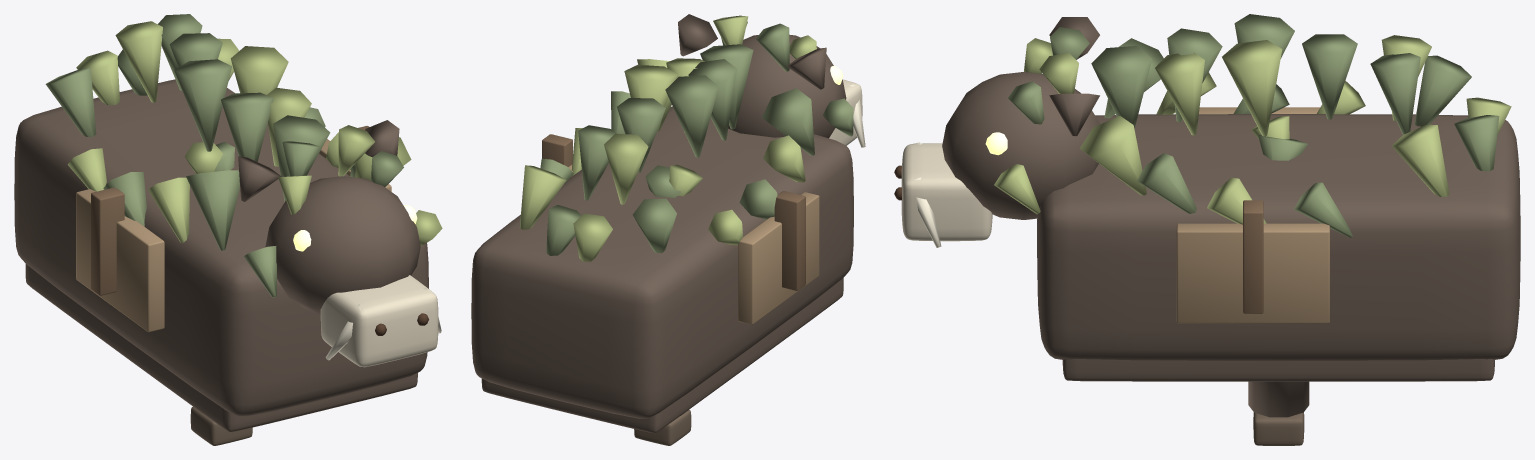
The model's file is bramble_charger_v1.glb.
3 renders of one model, left to right at view 1: azimuth 30°, elevation 25°; view 2: azimuth 150°, elevation 25°; view 3: azimuth 270°, elevation 25°, orthographic. The views are drawn at different scales.
Parts seen in each view (by area): view 1: Body_Barrel, Body, Head_Mesh, Snout, Plank_Armor_L, Body_Belly, Plank_detail_strap_L, Body_ruffle_leaf_21, Ear_L_detail, BL_Hoof, Body_ruffle_leaf_24, Body_ruffle_leaf_20 (+7 smaller); view 2: Body_Barrel, Body, Plank_Armor_L, Body_Belly, Head_Mesh, Plank_detail_strap_L, Ear_R_detail, Body_ruffle_leaf_20, Ear_L_detail, BL_Hoof, Body_ruffle_leaf_24, Plank_detail_strap_R (+5 smaller); view 3: Body_Barrel, Body, Plank_Armor_R, Head_Mesh, Body_Belly, Snout, Plank_detail_strap_R, BL_Leg, BL_Hoof, Ear_R_detail, Body_ruffle_leaf_25, Body_ruffle_leaf_21 (+5 smaller).
Part boxes in pixels (<box>): Body_Barrel: <box>14,79,428,416</box>; Body: <box>45,14,411,250</box>; Head_Mesh: <box>265,176,420,314</box>; Snout: <box>320,275,438,367</box>; Plank_Armor_L: <box>76,189,164,332</box>; Body_Belly: <box>25,264,417,431</box>; Plank_detail_strap_L: <box>91,187,124,295</box>; Body_ruffle_leaf_21: <box>338,125,374,176</box>; Ear_L_detail: <box>238,156,281,201</box>; BL_Hoof: <box>190,407,252,445</box>; Body_ruffle_leaf_24: <box>244,246,276,297</box>; Body_ruffle_leaf_20: <box>282,141,320,176</box>; Body_Barrel: <box>471,106,853,418</box>; Body: <box>519,44,814,261</box>; Plank_Armor_L: <box>738,192,819,324</box>; Body_Belly: <box>481,278,843,433</box>; Head_Mesh: <box>728,34,846,138</box>; Plank_detail_strap_L: <box>774,191,805,290</box>; Ear_R_detail: <box>678,14,717,56</box>; Body_ruffle_leaf_20: <box>756,23,789,71</box>; Ear_L_detail: <box>786,47,826,89</box>; BL_Hoof: <box>634,409,691,445</box>; Body_ruffle_leaf_24: <box>822,98,853,136</box>; Plank_detail_strap_R: <box>542,134,572,166</box>; Body_Barrel: <box>1037,114,1520,360</box>; Body: <box>1080,14,1511,237</box>; Plank_Armor_R: <box>1176,223,1329,323</box>; Head_Mesh: <box>942,72,1100,219</box>; Body_Belly: <box>1062,359,1494,381</box>; Snout: <box>901,143,992,241</box>; Plank_detail_strap_R: <box>1243,200,1263,313</box>; BL_Leg: <box>1248,381,1309,417</box>; BL_Hoof: <box>1253,412,1304,445</box>; Ear_R_detail: <box>1049,93,1099,136</box>; Body_ruffle_leaf_25: <box>994,164,1040,214</box>; Body_ruffle_leaf_21: <box>1039,53,1078,93</box>.
Bounding box in the file's own units: 0.66 × 0.8674 × 1.23.
